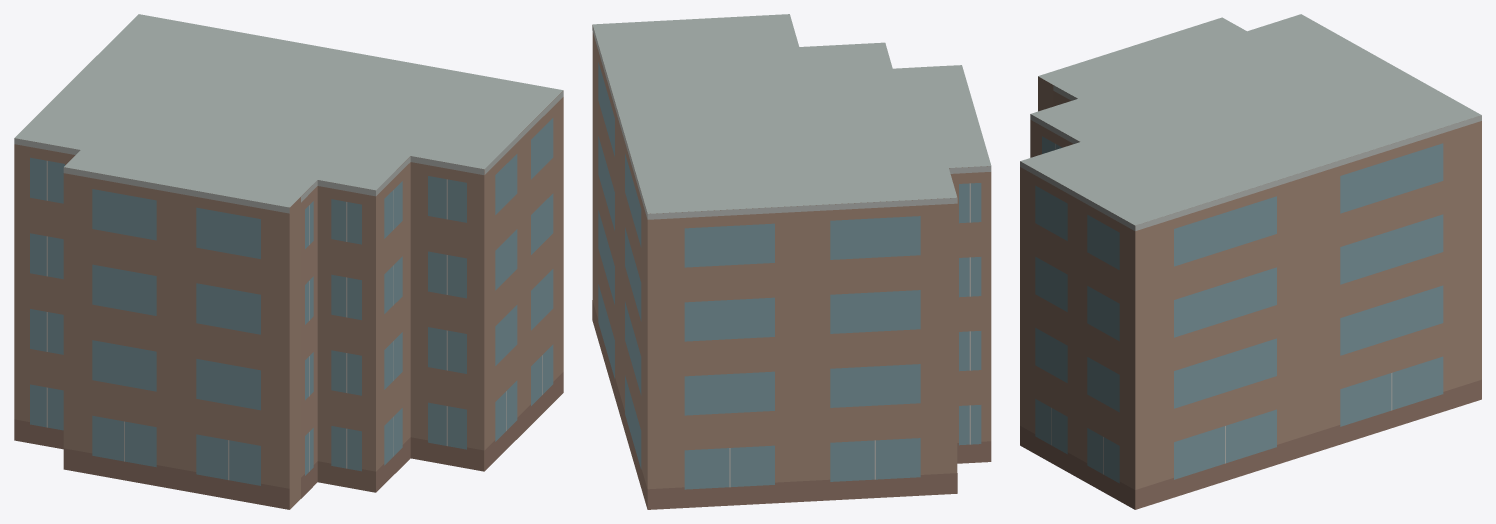
The model's file is residential-de36bfd2-aa7f-4169-b350-8f0b0ffd2ff7.glb.
The picture shows the model from 3 angles, left to right: view 1: azimuth 30°, elevation 25°; view 2: azimuth 150°, elevation 25°; view 3: azimuth 270°, elevation 25°; orthographic projection. The views are drawn at different scales.
Visible parts, largest first — view 1: residential-de36bfd2-aa7f-4169-b350-8f0b0ffd2ff7.tmp; view 2: residential-de36bfd2-aa7f-4169-b350-8f0b0ffd2ff7.tmp; view 3: residential-de36bfd2-aa7f-4169-b350-8f0b0ffd2ff7.tmp.
Boxes of the visible parts, bbox=[...] form: residential-de36bfd2-aa7f-4169-b350-8f0b0ffd2ff7.tmp: bbox=[14, 14, 563, 509]; residential-de36bfd2-aa7f-4169-b350-8f0b0ffd2ff7.tmp: bbox=[592, 14, 991, 509]; residential-de36bfd2-aa7f-4169-b350-8f0b0ffd2ff7.tmp: bbox=[1020, 14, 1481, 509].
Bounding box in the file's own units: 19.48 × 12.2 × 17.97.
